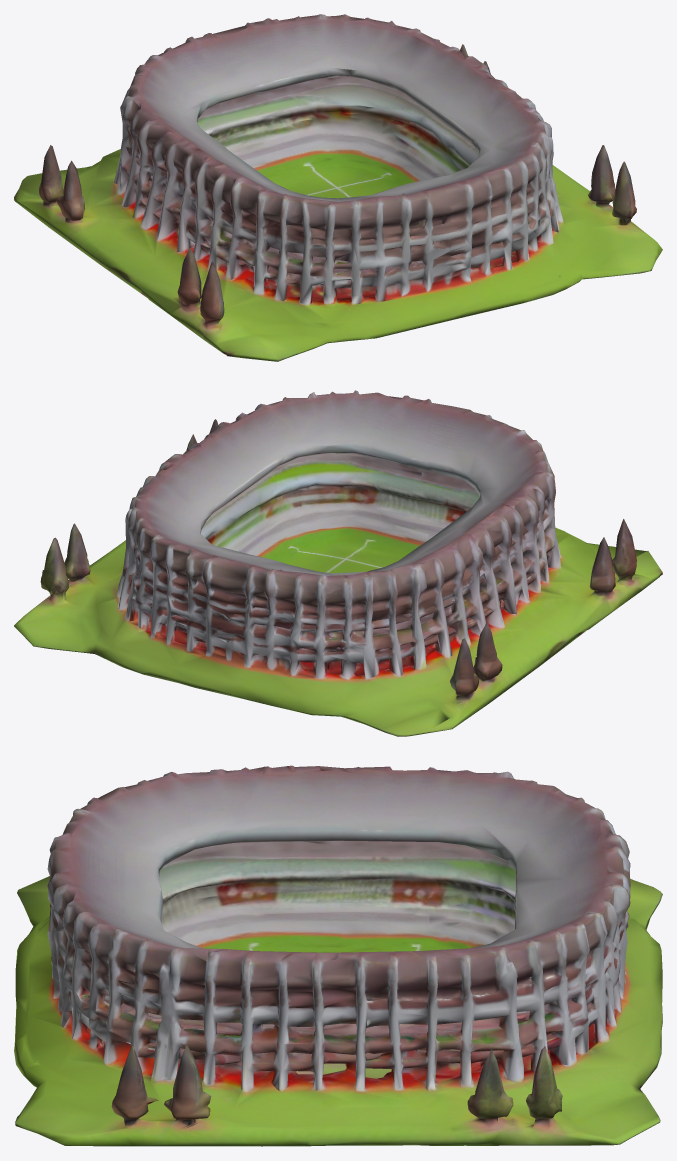
The model's file is landmark-estadio.glb.
The picture shows the model from 3 angles, top to bottom: view 1: azimuth 30°, elevation 25°; view 2: azimuth 150°, elevation 25°; view 3: azimuth 270°, elevation 25°; orthographic projection. The views are drawn at different scales.
Bounding box in the file's own units: 2 × 0.5413 × 2.
Materials: 1 (1 with a texture image).
